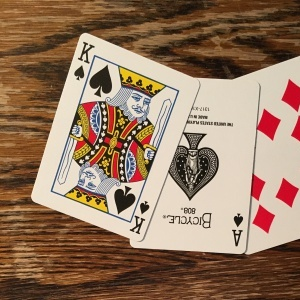card: (29, 32, 198, 239), (160, 75, 260, 254)
